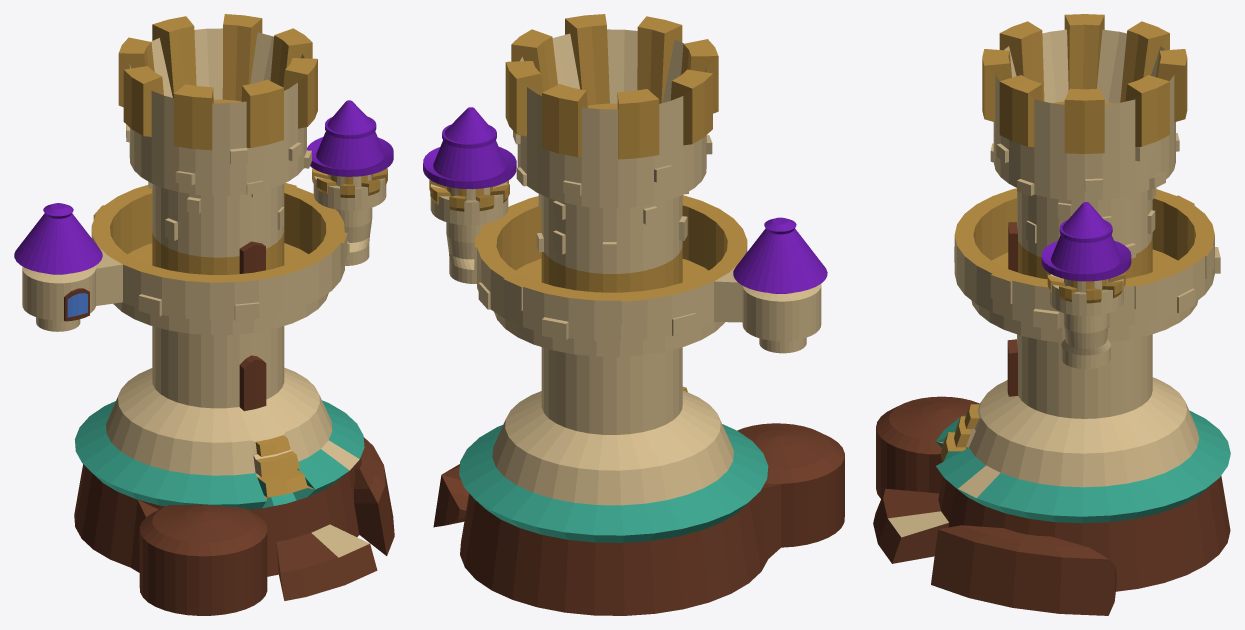
File: kule (2).fbx
3 renders of one model, left to right at view 1: azimuth 30°, elevation 25°; view 2: azimuth 150°, elevation 25°; view 3: azimuth 270°, elevation 25°, orthographic. The views are drawn at different scales.
Visible parts, largest first — view 1: Cylinder; view 2: Cylinder; view 3: Cylinder.
Boxes of the visible parts, left/top/right/bottom form: Cylinder: left=14, top=14, right=394, bottom=615; Cylinder: left=423, top=14, right=844, bottom=615; Cylinder: left=873, top=14, right=1230, bottom=615.
Bounding box in the file's own units: 827 × 1007 × 679.
